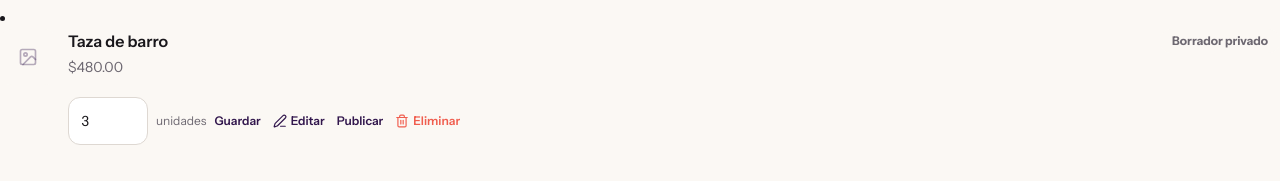
Test: ProductRow › announces the gate-aware result returned by the publication action
Click the button "Publicar" at [360, 121], box [337,99,383,143]
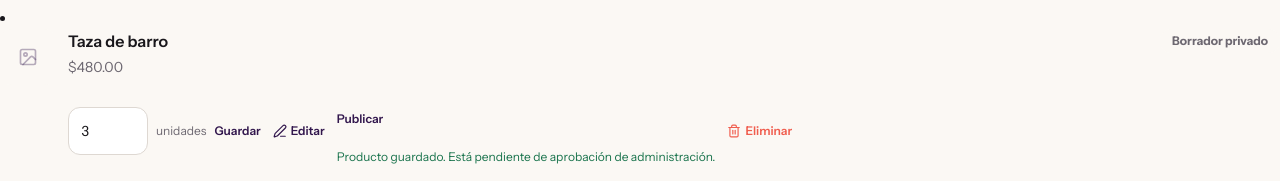
Expected: the message reads "Producto guardado. Está pendiente de aprobación de administración.", [337,149,716,164]
